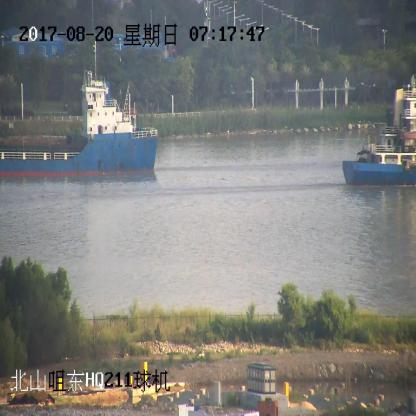Bulk Carrier: (0, 74, 157, 179), (344, 82, 416, 186)
